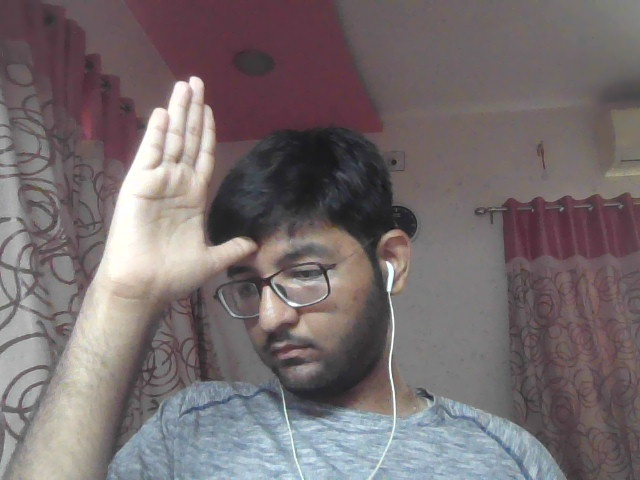પિતા: (83, 62, 263, 321)
